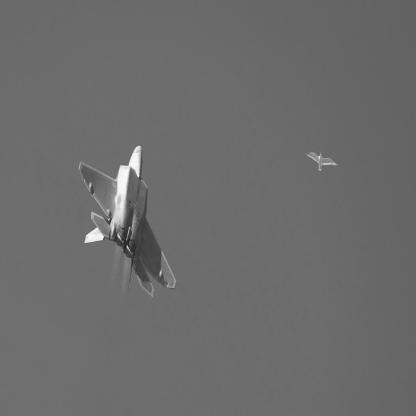F22: (79, 146, 178, 300)
